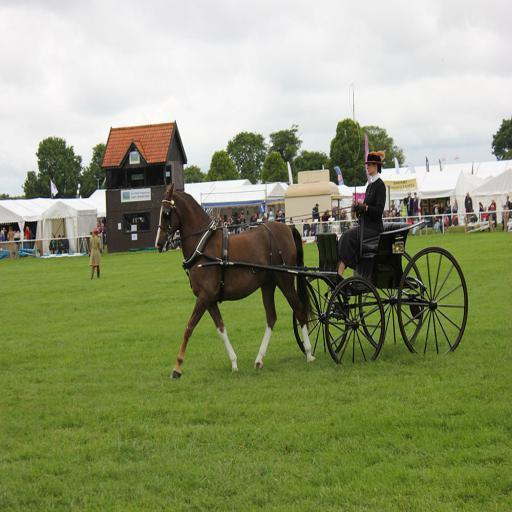horse: (153, 183, 318, 380)
